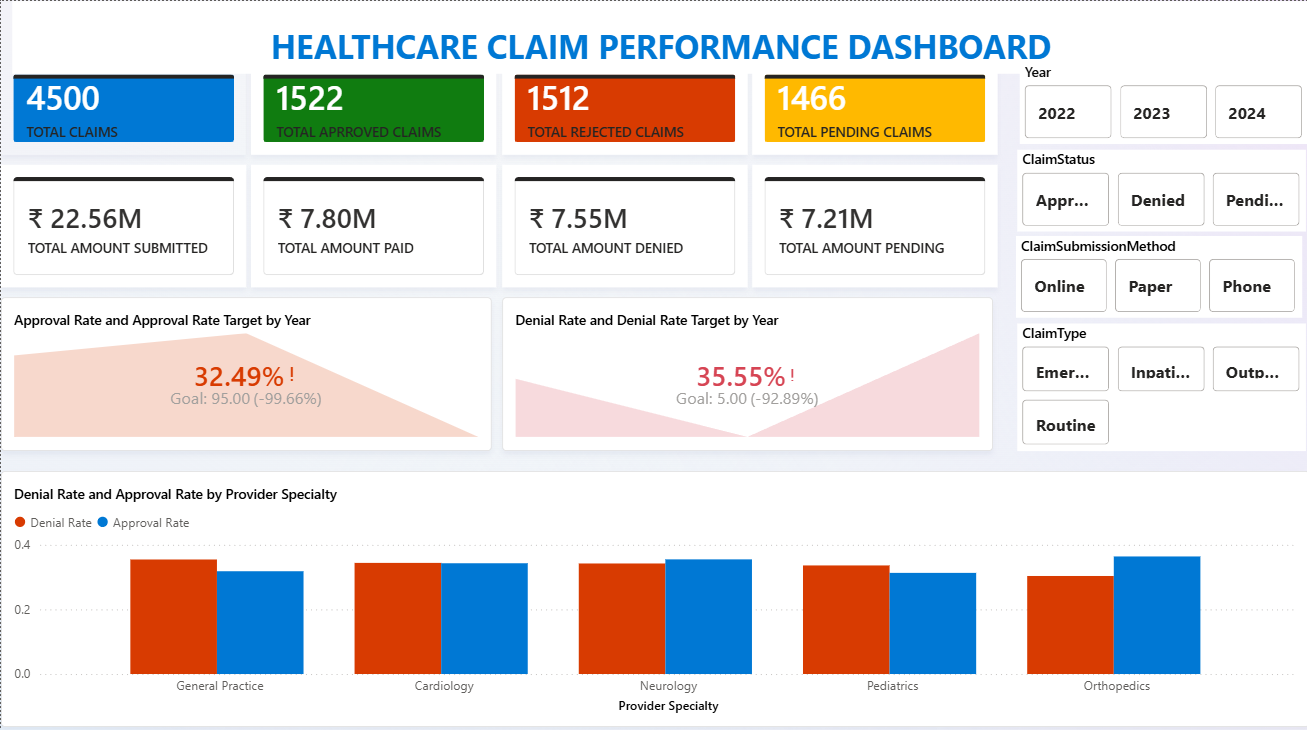

This screenshot's page, from the dashboard's own definition file:
{"tool":"powerbi","page":{"name":"Page 1","canvas":[1280,720],"ordinal":0},"visuals":[{"type":"advancedSlicerVisual","fields":{"Values":["Raw data.ClaimDate.Variation.Date Hierarchy.Year"]},"box":[997,60,282,80],"z":0,"group":"g1"},{"type":"advancedSlicerVisual","fields":{"Values":["Raw data.ClaimStatus"]},"box":[994,145,282,80],"z":1000,"group":"g1"},{"type":"advancedSlicerVisual","fields":{"Values":["Raw data.ClaimSubmissionMethod"]},"box":[992.9,230,280,80],"z":2000,"group":"g1"},{"type":"advancedSlicerVisual","fields":{"Values":["Raw data.ClaimType"]},"box":[994.1,315,282,125],"z":3000,"group":"g1"},{"type":"cardVisual","fields":{"Data":["Raw data.var Total_claims"]},"box":[0,60,240,90],"z":3500},{"type":"cardVisual","fields":{"Data":["Raw data.var total_Aprrovedclaims"]},"box":[245,60,240,90],"z":3750},{"type":"cardVisual","fields":{"Data":["Raw data.VAR TOTAL_Rjectedclaims"]},"box":[490,60,240,90],"z":3875},{"type":"cardVisual","fields":{"Data":["Raw data.VAR Total_pendingclaims"]},"box":[735,60,240,90],"z":3937},{"type":"kpi","fields":{"Indicator":["Raw data.var Denial_Rate"],"TrendLine":["Raw data.ClaimDate.Variation.Date Hierarchy.Year"],"Goal":["Raw data.Denial Rate Target"]},"box":[490,290,480,150],"z":4000},{"type":"kpi","fields":{"Indicator":["Raw data.var Approval_Rate"],"TrendLine":["Raw data.ClaimDate.Variation.Date Hierarchy.Year"],"Goal":["Raw data.approval Rate Target"]},"box":[0,290,480,150],"z":5000},{"type":"cardVisual","fields":{"Data":["Raw data.Var Total_Amount_Denied"]},"box":[490,160,240,120],"z":6000},{"type":"cardVisual","fields":{"Data":["Raw data.Var Total_Amount_Pending"]},"box":[735,160,240,120],"z":7000},{"type":"cardVisual","fields":{"Data":["Raw data.var Total_Amount_Submitted"]},"box":[0,160,240,120],"z":8000},{"type":"cardVisual","fields":{"Data":["Raw data.Var Total_Amount_Paid"]},"box":[245,160,240,120],"z":9000},{"type":"clusteredColumnChart","fields":{"Category":["Raw data.ProviderSpecialty"],"Y":["Raw data.var Denial_Rate","Raw data.var Approval_Rate"]},"box":[0,460,1280.3,250],"z":10000},{"type":"textbox","box":[11,0,1269.3,70.9],"z":11000},{"type":"group","id":"g1","title":"Group 1","box":[992.9,60,286.1,380],"z":12000}]}

Visuals, with their boxes in screenshot pixels (x1, y1, x2, y2), scaled from the page's 1280x720 canvas onto the 1307x730 screenshot:
advancedSlicerVisual - Raw data.ClaimDate.Variation.Date Hierarchy.Year: (left=1018, top=61, right=1306, bottom=142)
advancedSlicerVisual - Raw data.ClaimStatus: (left=1015, top=147, right=1303, bottom=228)
advancedSlicerVisual - Raw data.ClaimSubmissionMethod: (left=1014, top=233, right=1300, bottom=314)
advancedSlicerVisual - Raw data.ClaimType: (left=1015, top=319, right=1303, bottom=446)
cardVisual - Raw data.var Total_claims: (left=0, top=61, right=245, bottom=152)
cardVisual - Raw data.var total_Aprrovedclaims: (left=250, top=61, right=495, bottom=152)
cardVisual - Raw data.VAR TOTAL_Rjectedclaims: (left=500, top=61, right=745, bottom=152)
cardVisual - Raw data.VAR Total_pendingclaims: (left=751, top=61, right=996, bottom=152)
kpi - Raw data.var Denial_Rate x Raw data.ClaimDate.Variation.Date Hierarchy.Year: (left=500, top=294, right=990, bottom=446)
kpi - Raw data.var Approval_Rate x Raw data.ClaimDate.Variation.Date Hierarchy.Year: (left=0, top=294, right=490, bottom=446)
cardVisual - Raw data.Var Total_Amount_Denied: (left=500, top=162, right=745, bottom=284)
cardVisual - Raw data.Var Total_Amount_Pending: (left=751, top=162, right=996, bottom=284)
cardVisual - Raw data.var Total_Amount_Submitted: (left=0, top=162, right=245, bottom=284)
cardVisual - Raw data.Var Total_Amount_Paid: (left=250, top=162, right=495, bottom=284)
clusteredColumnChart - Raw data.ProviderSpecialty x Raw data.var Denial_Rate: (left=0, top=466, right=1306, bottom=720)
textbox: (left=11, top=0, right=1306, bottom=72)
"Group 1" group: (left=1014, top=61, right=1306, bottom=446)
